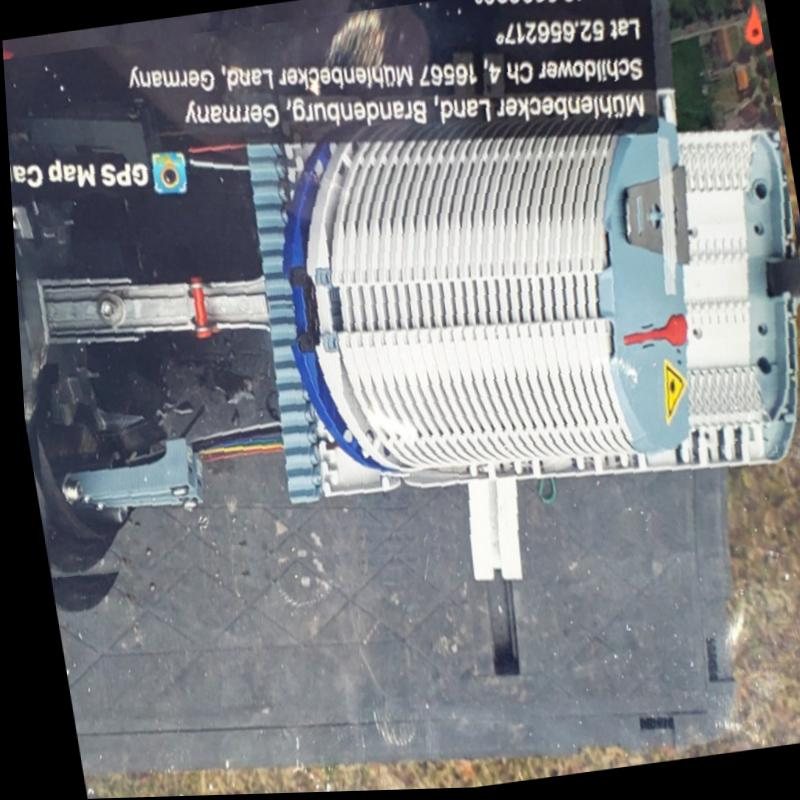NT-Muffen: (3, 52, 791, 584)
